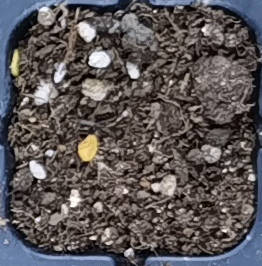pepper seed: (27, 50, 126, 214), (0, 9, 19, 86)
